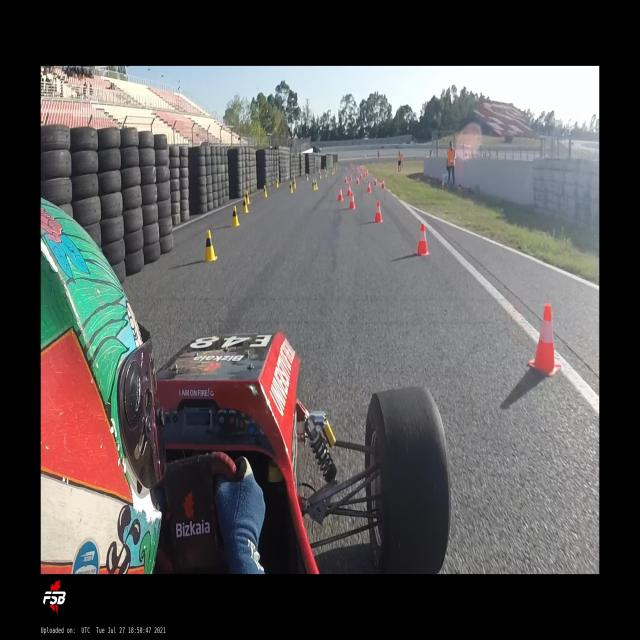orange_cone: (528, 303, 560, 377), (415, 223, 431, 256), (373, 200, 383, 222), (348, 192, 356, 209), (338, 187, 343, 200), (367, 180, 371, 192), (347, 183, 351, 195), (381, 178, 385, 189), (356, 175, 360, 185), (374, 177, 376, 186)
yellow_cone: (205, 230, 217, 261), (232, 206, 240, 226), (242, 197, 248, 213), (246, 190, 250, 204), (263, 185, 267, 198), (314, 178, 318, 190), (289, 182, 293, 194), (312, 180, 316, 190), (292, 178, 296, 188), (275, 179, 278, 188), (306, 173, 308, 181)
